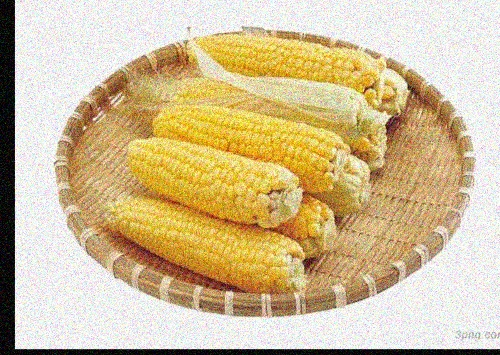corn: (103, 195, 306, 294), (150, 105, 351, 193), (122, 135, 304, 231), (190, 34, 383, 104)
